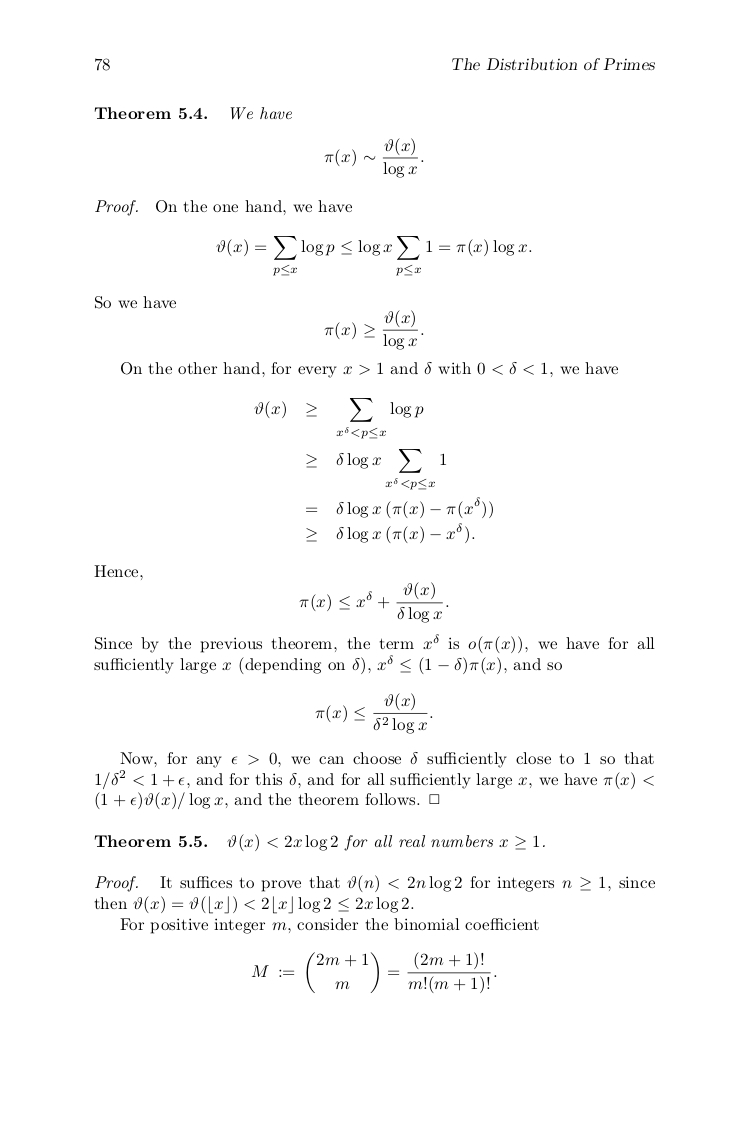formula: (216, 236, 531, 275), (251, 951, 496, 994), (254, 398, 423, 438), (299, 581, 448, 623), (306, 449, 446, 489), (315, 692, 432, 734), (306, 496, 492, 519), (324, 137, 423, 178), (324, 310, 423, 349), (306, 522, 474, 544)
